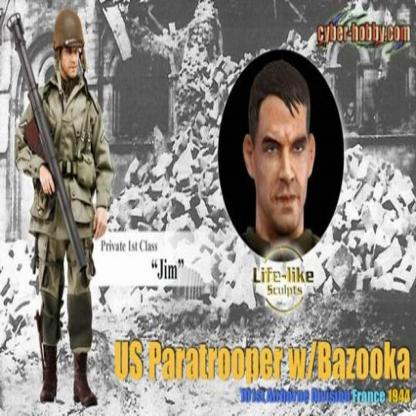face: (254, 106, 309, 232), (61, 37, 80, 78)
